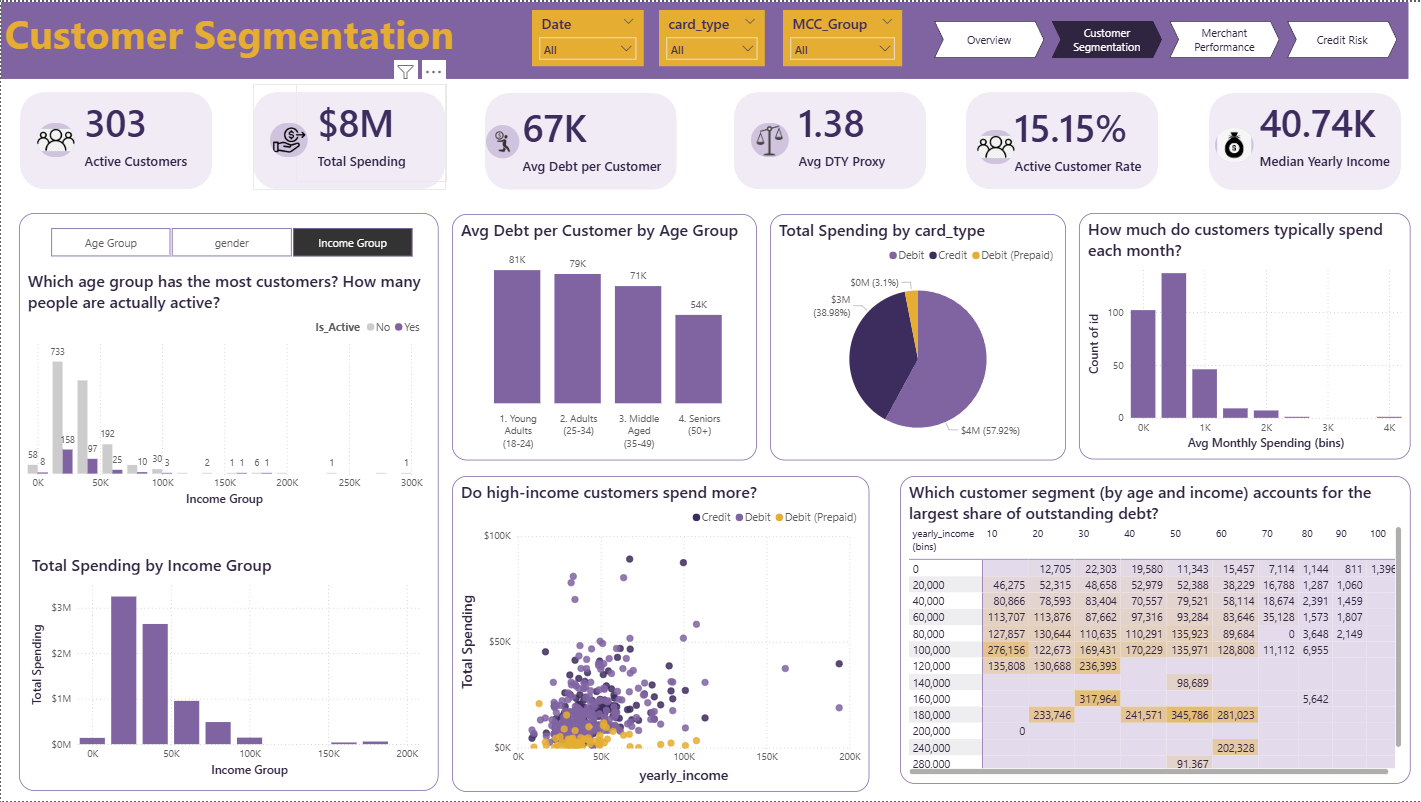

The dashboard page shown, as its layout file describes it:
{"tool":"powerbi","page":{"name":"Customer Segmentation","canvas":[1920,1080],"ordinal":1},"visuals":[{"type":"shape","box":[990.8,121.7,259.7,131.3],"z":0,"group":"g4"},{"type":"shape","box":[25.4,121.8,259.7,131.3],"z":0,"group":"g3"},{"type":"shape","box":[340.6,121.8,259.7,131.3],"z":0,"group":"g1"},{"type":"shape","box":[1304.2,122.4,259.7,131.3],"z":0,"group":"g5"},{"type":"shape","box":[654.3,122.5,259.4,130.8],"z":0,"group":"g2"},{"type":"shape","box":[1632.8,122.7,259.7,131.3],"z":0,"group":"g6"},{"type":"shape","box":[23.9,285.1,567.2,780.6],"z":0,"group":"g7"},{"type":"scatterChart","title":"Do high-income customers spend more?","fields":{"X":["dim_users.yearly_income"],"Y":["_Measures.Total Spending"],"Series":["dim_cards.card_type"]},"box":[609,640.3,564.2,426.9],"z":0},{"type":"pieChart","fields":{"Category":["dim_cards.card_type"],"Y":["_Measures.Gross Spending"]},"box":[1038.8,286.6,400,332.8],"z":1000},{"type":"clusteredColumnChart","title":"Which age group has the most customers? How many people are actually active?","fields":{"Category":["dim_users.yearly_income (bins)"],"Series":["dim_users.Is_Active"],"Y":["CountNonNull(dim_users.id)"]},"box":[30,362.6,544.8,323.9],"z":1000,"group":"g7"},{"type":"slicer","fields":{"Values":["dim_cards.card_type"]},"box":[1685.1,370.1,176.1,152.2],"z":2000},{"type":"columnChart","fields":{"Category":["dim_users.yearly_income (bins)"],"Y":["_Measures.Total Spending"]},"box":[36,746.2,535.8,306],"z":2000,"group":"g7"},{"type":"clusteredColumnChart","title":" How much do customers typically spend each month?","fields":{"Y":["CountNonNull(dim_users.id)"],"Category":["dim_users.Avg Monthly Spending (bins)"]},"box":[1456.7,285.1,447.8,332.8],"z":3000},{"type":"pivotTable","title":" Which customer segment (by age and income) accounts for the largest share of outstanding debt?","fields":{"Rows":["dim_users.yearly_income (bins)"],"Values":["Avg(dim_users.total_debt)"],"Columns":["dim_users.current_age (bins)"]},"box":[1214.9,640.3,689.6,416.4],"z":4000},{"type":"clusteredColumnChart","fields":{"Y":["_Measures.Avg Debt"],"Category":["dim_users.Age Group"]},"box":[609,286.6,411.9,332.8],"z":5000},{"type":"slicer","fields":{"Values":["Demographic Parameter.Demographic Parameter"]},"box":[41.4,298.5,537.9,52.2],"z":5000,"group":"g7"},{"type":"textbox","box":[0,0,1902.1,104.3],"z":6000},{"type":"pageNavigator","box":[1260.3,25.9,629.3,50],"z":7000},{"type":"slicer","fields":{"Values":["dim_mcc_codes.MCC_Group"]},"box":[1056.7,10.4,161.2,76.1],"z":8000},{"type":"slicer","fields":{"Values":["dim_cards.card_type"]},"box":[889.6,10.4,143.3,76.1],"z":9000},{"type":"slicer","fields":{"Values":["dim_date.Date"]},"box":[717.9,10.4,150.7,76.1],"z":10000},{"type":"group","id":"g1","title":"Group 1","box":[340.6,110.4,261.2,143.3],"z":11000},{"type":"group","id":"g2","title":"Group 1","box":[654.3,116.1,284.1,137.7],"z":12000},{"type":"group","id":"g3","title":"Group 1","box":[25.4,110.4,262.7,143.3],"z":13000},{"type":"group","id":"g4","title":"Group 1","box":[990.8,110.3,260.9,143.5],"z":14000},{"type":"cardVisual","fields":{"Data":["_Measures.Avg DTY Proxy"]},"box":[1048.6,110.3,203.8,131.9],"z":14000,"group":"g4"},{"type":"cardVisual","fields":{"Data":["_Measures.Active Customers"]},"box":[83.2,110.4,203.8,131.9],"z":14000,"group":"g3"},{"type":"cardVisual","fields":{"Data":["_Measures.Total Spending"]},"box":[398.4,110.4,203.8,131.9],"z":14000,"group":"g1"},{"type":"cardVisual","fields":{"Data":["_Measures.Median Yearly Income"]},"box":[1671.5,110.4,238.8,131.3],"z":14000,"group":"g6"},{"type":"cardVisual","fields":{"Data":["_Measures.Average Debt per Customer"]},"box":[675.6,116.1,262.3,133.3],"z":14000,"group":"g2"},{"type":"cardVisual","fields":{"Data":["_Measures.Active Customer Rate"]},"box":[1340,117.8,240.3,132.8],"z":14000,"group":"g5"},{"type":"group","id":"g5","title":"Group 1","box":[1304.2,117.8,276.1,136],"z":15000},{"type":"image","box":[1013.6,163.3,51.5,46],"z":15000,"group":"g4"},{"type":"image","box":[48.2,163.4,51.5,46],"z":15000,"group":"g3"},{"type":"image","box":[363.4,163.4,51.5,46],"z":15000,"group":"g1"},{"type":"image","box":[655.3,166.1,44.9,44.9],"z":15000,"group":"g2"},{"type":"image","box":[1640.5,169.3,52.2,46.3],"z":15000,"group":"g6"},{"type":"image","box":[1319.4,172.8,51.5,46],"z":15000,"group":"g5"},{"type":"group","id":"g6","title":"Group 1","box":[1632.8,110.4,277.6,143.3],"z":16000},{"type":"group","id":"g7","title":"Group 2","box":[23.9,285.1,567.2,780.6],"z":17000}]}

Visuals, with their boxes in screenshot pixels (x1, y1, x2, y2), scaled from the page's 1920x1080 canvas onto the 1421x802 screenshot:
shape: detection(733, 90, 926, 188)
shape: detection(19, 90, 211, 188)
shape: detection(252, 90, 444, 188)
shape: detection(965, 91, 1157, 188)
shape: detection(484, 91, 676, 188)
shape: detection(1208, 91, 1401, 189)
shape: detection(18, 212, 437, 791)
"Do high-income customers spend more?" scatterChart: detection(451, 475, 868, 792)
pieChart - dim_cards.card_type x _Measures.Gross Spending: detection(769, 213, 1065, 460)
"Which age group has the most customers? How many people are actually active?" clusteredColumnChart: detection(22, 269, 425, 510)
slicer - dim_cards.card_type: detection(1247, 275, 1377, 388)
columnChart - dim_users.yearly_income (bins) x _Measures.Total Spending: detection(27, 554, 423, 781)
" How much do customers typically spend each month?" clusteredColumnChart: detection(1078, 212, 1410, 459)
" Which customer segment (by age and income) accounts for the largest share of outstanding debt?" pivotTable: detection(899, 475, 1410, 785)
clusteredColumnChart - _Measures.Avg Debt x dim_users.Age Group: detection(451, 213, 756, 460)
slicer - Demographic Parameter.Demographic Parameter: detection(31, 222, 429, 260)
textbox: detection(0, 0, 1408, 77)
pageNavigator: detection(933, 19, 1399, 56)
slicer - dim_mcc_codes.MCC_Group: detection(782, 8, 901, 64)
slicer - dim_cards.card_type: detection(658, 8, 764, 64)
slicer - dim_date.Date: detection(531, 8, 643, 64)
"Group 1" group: detection(252, 82, 445, 188)
"Group 1" group: detection(484, 86, 695, 188)
"Group 1" group: detection(19, 82, 213, 188)
"Group 1" group: detection(733, 82, 926, 188)
cardVisual - _Measures.Avg DTY Proxy: detection(776, 82, 927, 180)
cardVisual - _Measures.Active Customers: detection(62, 82, 212, 180)
cardVisual - _Measures.Total Spending: detection(295, 82, 446, 180)
cardVisual - _Measures.Median Yearly Income: detection(1237, 82, 1414, 179)
cardVisual - _Measures.Average Debt per Customer: detection(500, 86, 694, 185)
cardVisual - _Measures.Active Customer Rate: detection(992, 87, 1170, 186)
"Group 1" group: detection(965, 87, 1170, 188)
image: detection(750, 121, 788, 155)
image: detection(36, 121, 74, 155)
image: detection(269, 121, 307, 155)
image: detection(485, 123, 518, 157)
image: detection(1214, 126, 1253, 160)
image: detection(976, 128, 1015, 162)
"Group 1" group: detection(1208, 82, 1414, 188)
"Group 2" group: detection(18, 212, 437, 791)
